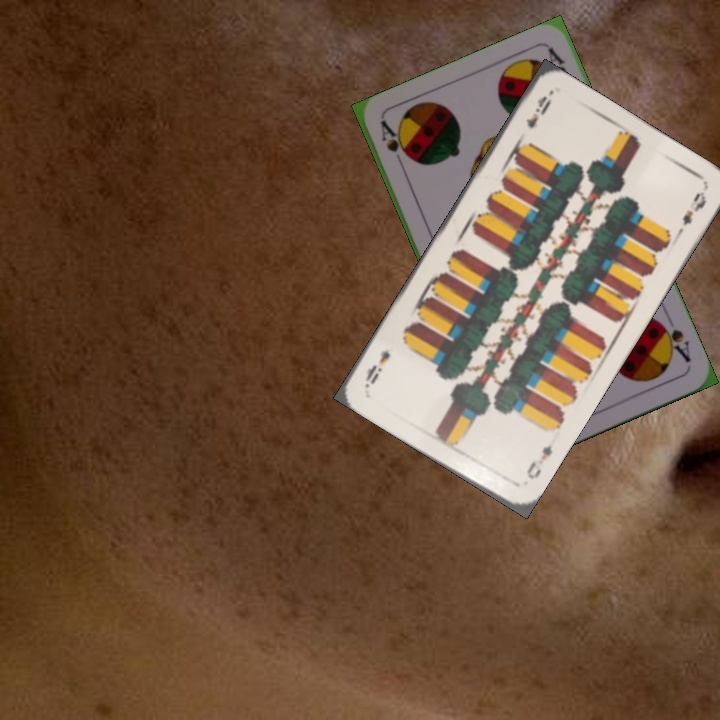E9: (522, 440, 555, 482), (521, 91, 555, 131)
SA: (654, 316, 694, 365), (376, 117, 411, 162)
